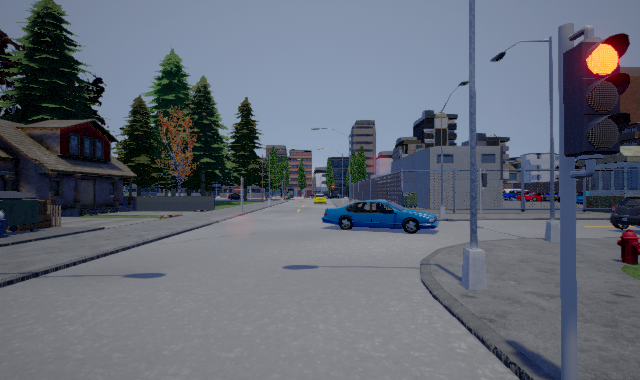traffic_light: (563, 25, 631, 178)
vehicle: (321, 200, 439, 234), (610, 197, 640, 230)
